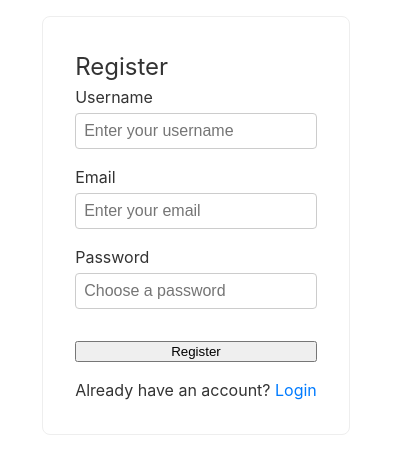
RegisterPage › displays error message on failed registration (e.g., email exists)
Type "testuser" into the field labelled "Username". click: [196, 131]
box: [75,113,317,149]
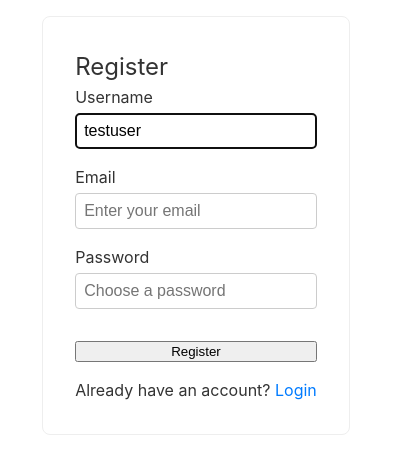
Type "existing@example.com" into the field labelled "Email". click: [196, 211]
box: [75,193,317,229]
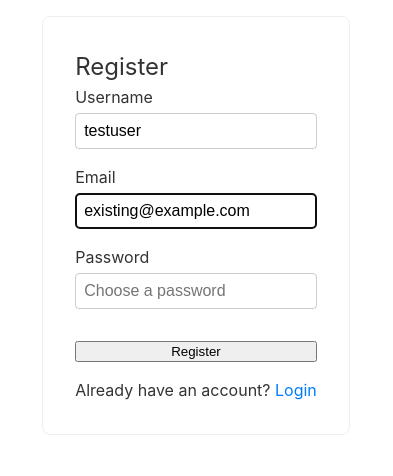
Type "password" into the password field labelled "Password". click: [196, 291]
box: [75,273,317,309]
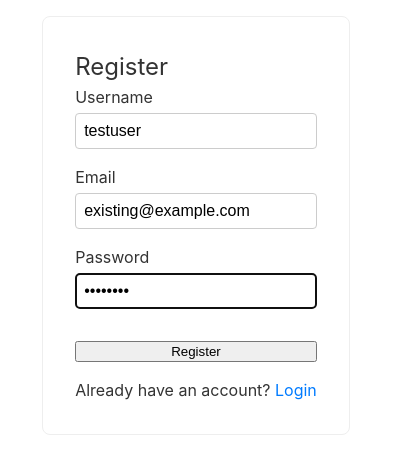
Click the button "Register". click: [196, 352]
box: [75,341,317,362]
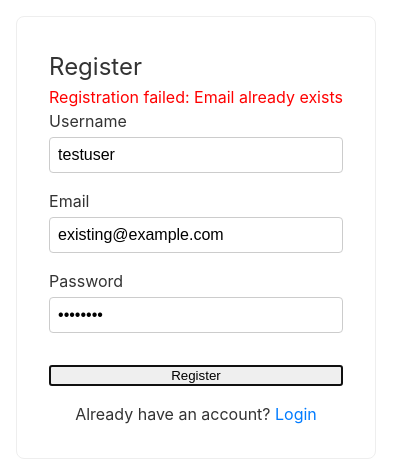
Now the text "Registration failed: Email already exists" is shown, box [49,85,343,109]
